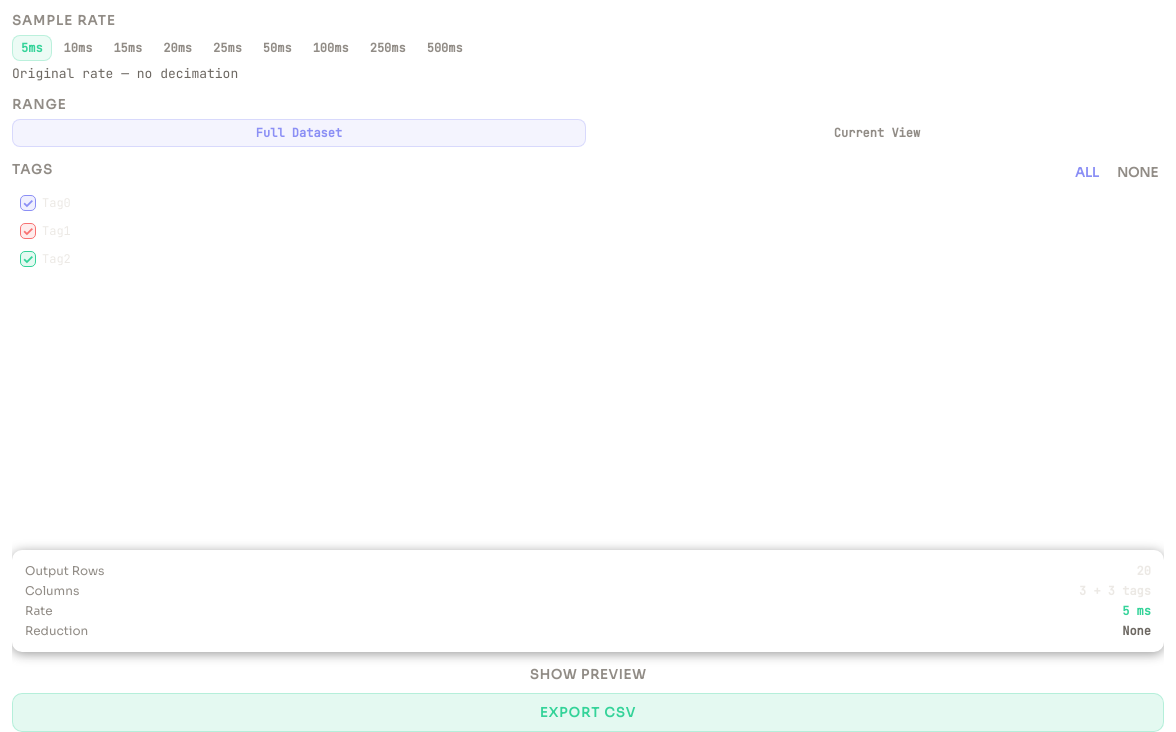
Test: ExportPanel › NONE deselects all signals and disables export
Click the button "NONE" at {"x": 1137, "y": 172}, box [1111,163,1164,182]
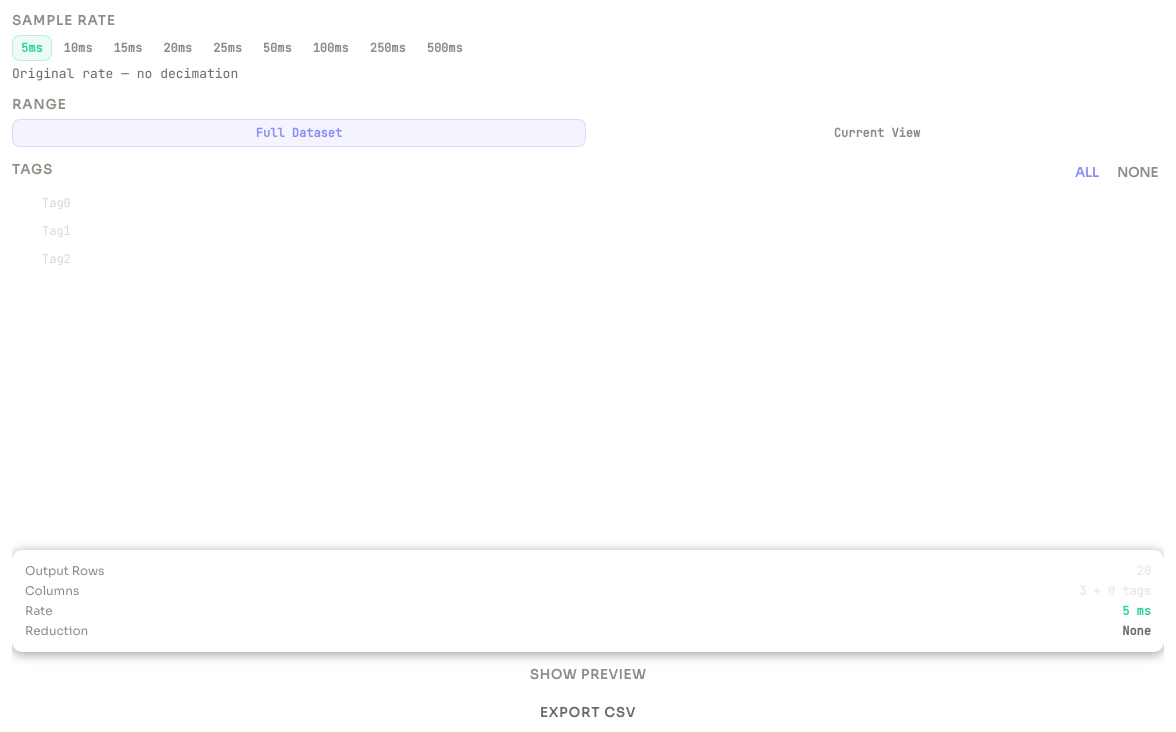
Check: the button "EXPORT CSV" is disabled, box [12,693,1164,731]
